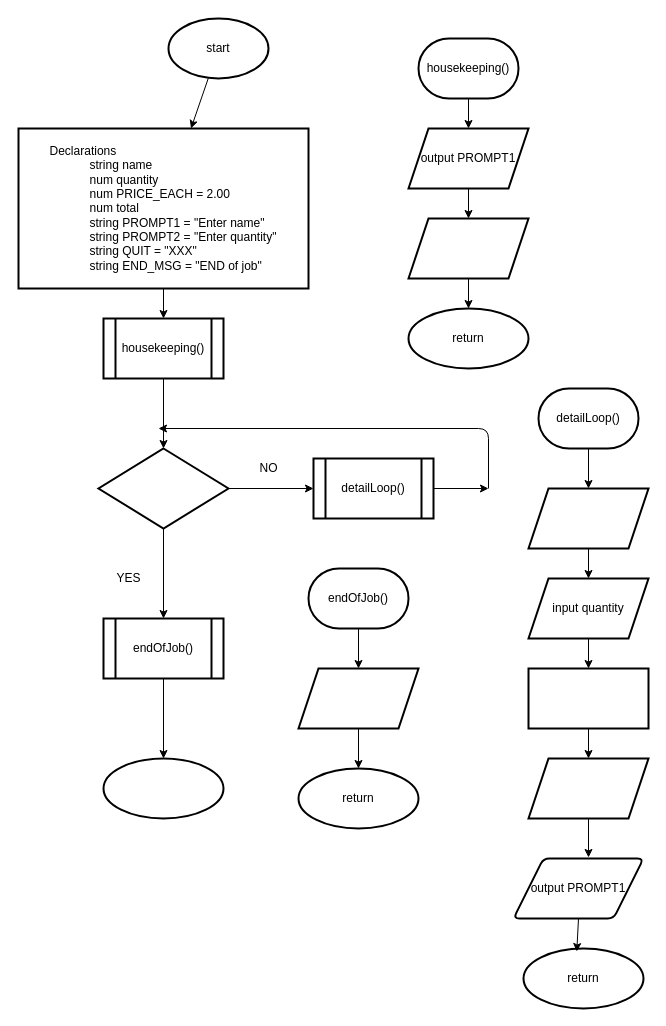
Some shapes in this 666 by 1026 pixel diagram are drawn without their labels. The centre of each missing label's shape, as x and y in pixels:
input name: point (468, 248)
name == QUIT: point (163, 488)
output END_MSG: point (358, 698)
output name, total: point (588, 788)
output PROMPT2: point (588, 518)
stop: point (163, 788)
total = quantity * PRICE_EACH: point (588, 698)
